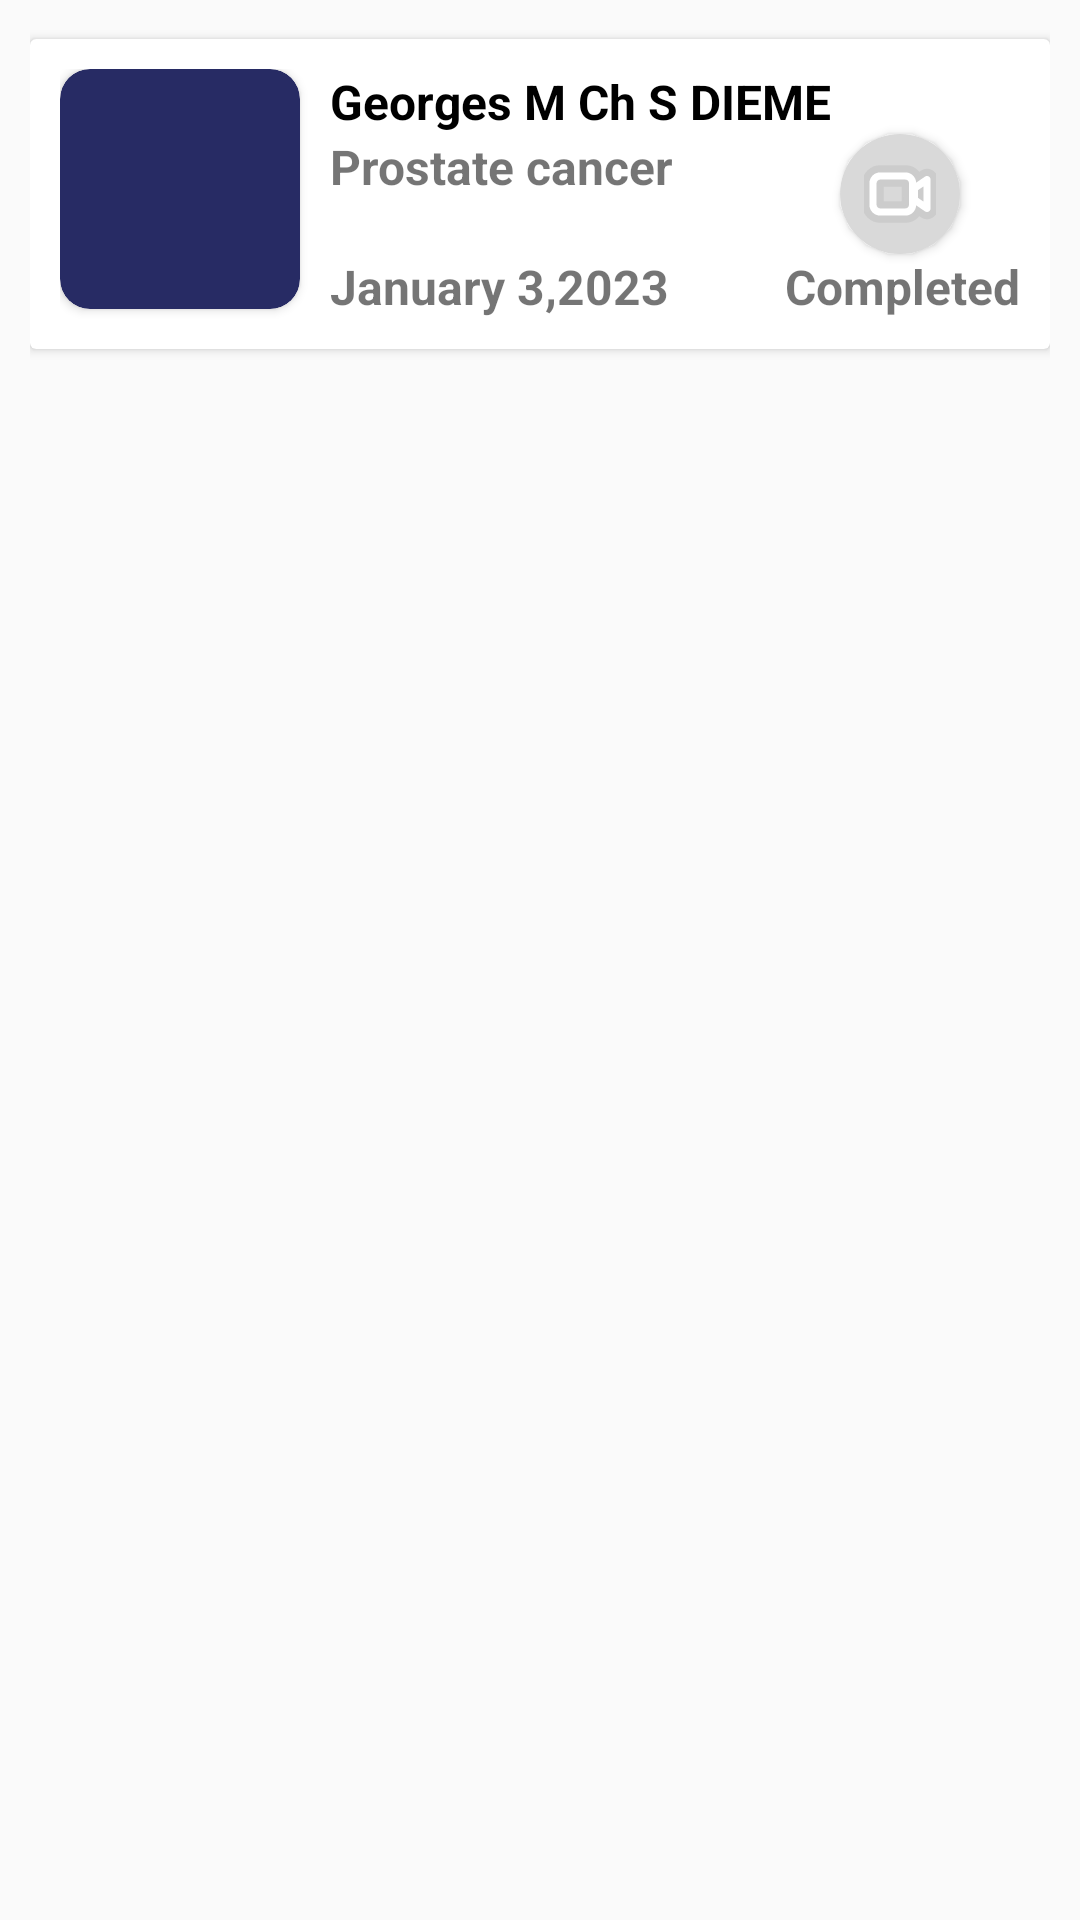

Named icons in this screenshot (1080px x 1920px) and their bounding boxes, (x1, y1, x2, y2):
call: (864, 165, 936, 223)
